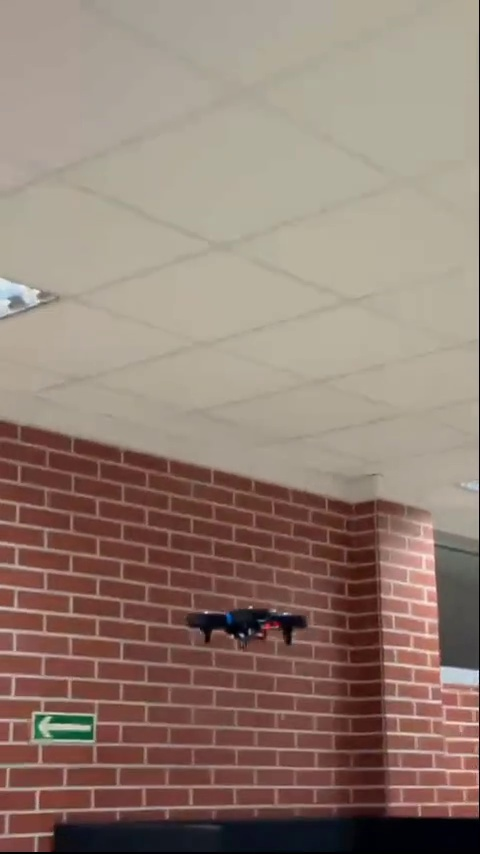drone: (183, 603, 308, 653)
